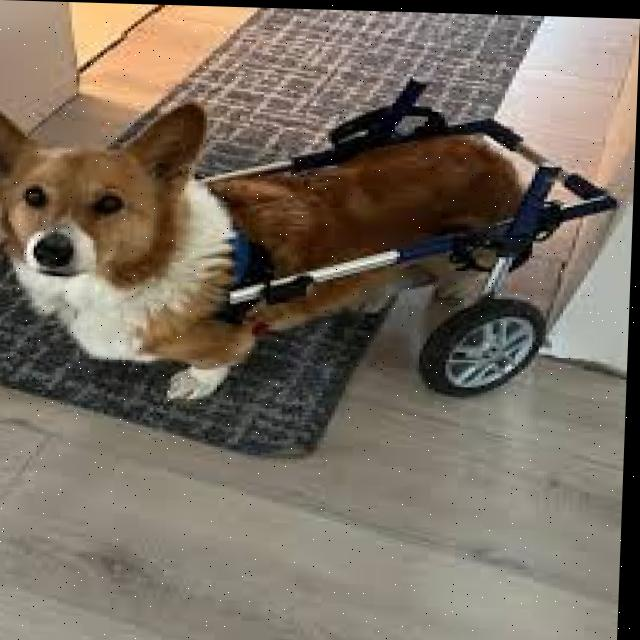CORGI: (0, 108, 572, 408)
